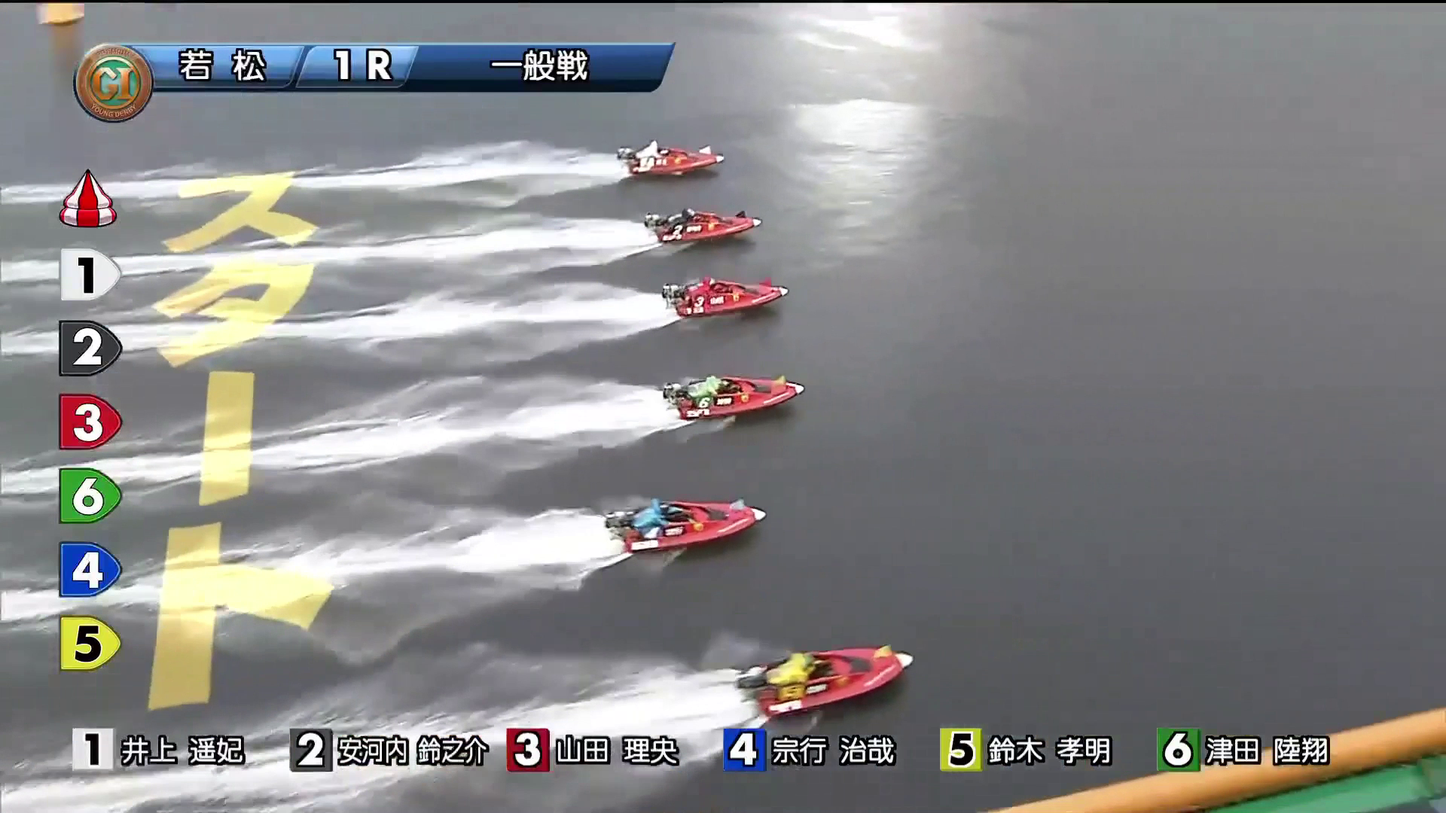１号艇: (630, 136, 706, 176)
２号艇: (653, 204, 756, 241)
３号艇: (672, 271, 798, 312)
４号艇: (685, 362, 790, 405)
５号艇: (623, 495, 743, 550)
６号艇: (733, 642, 891, 699)
